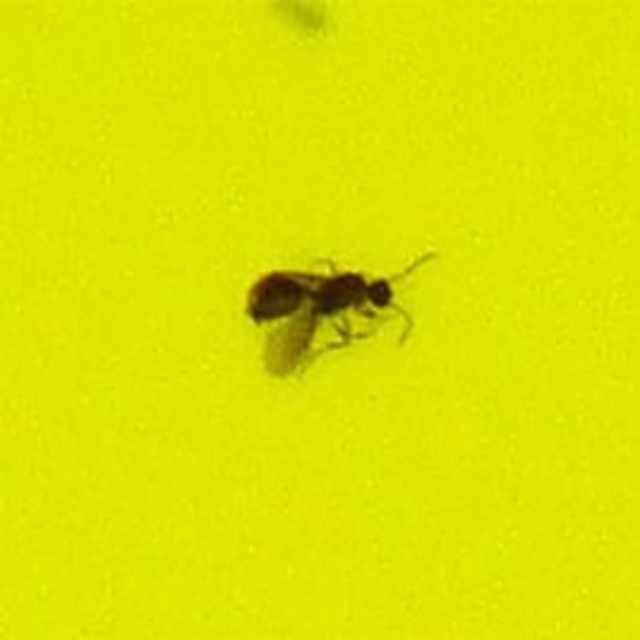Hymenoptera: (240, 259, 400, 381)
